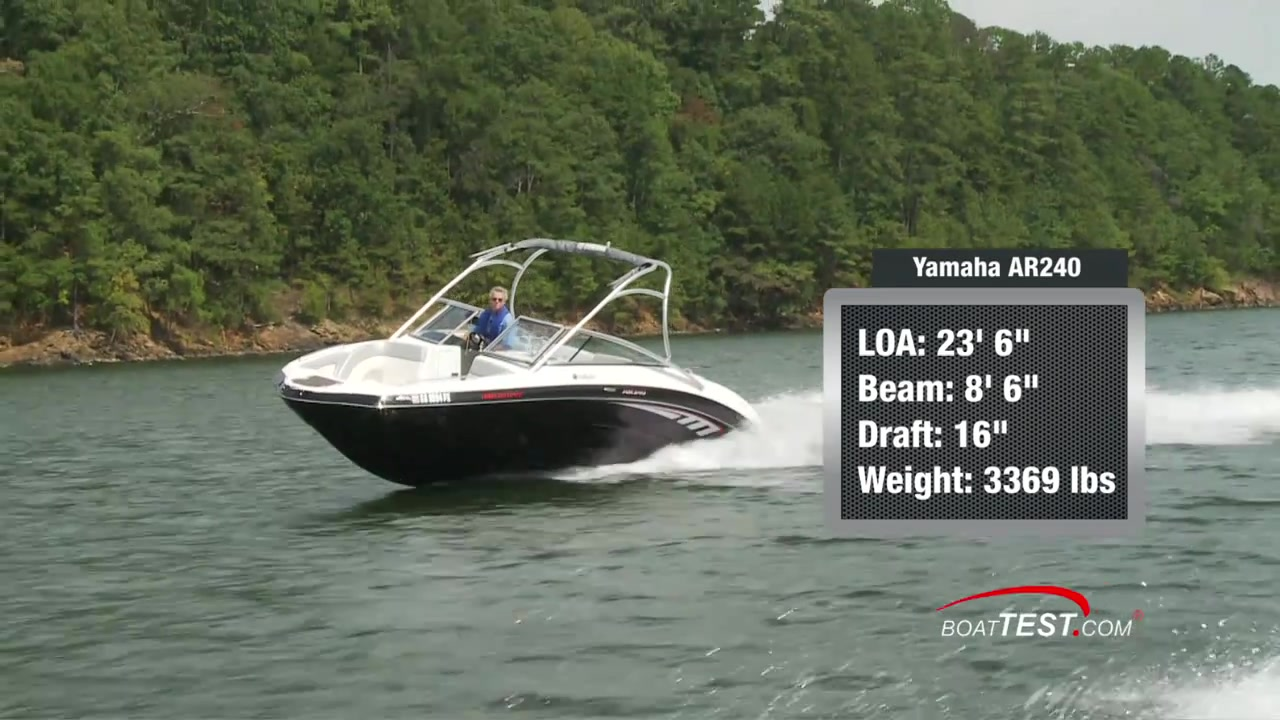boat: (270, 239, 766, 496)
